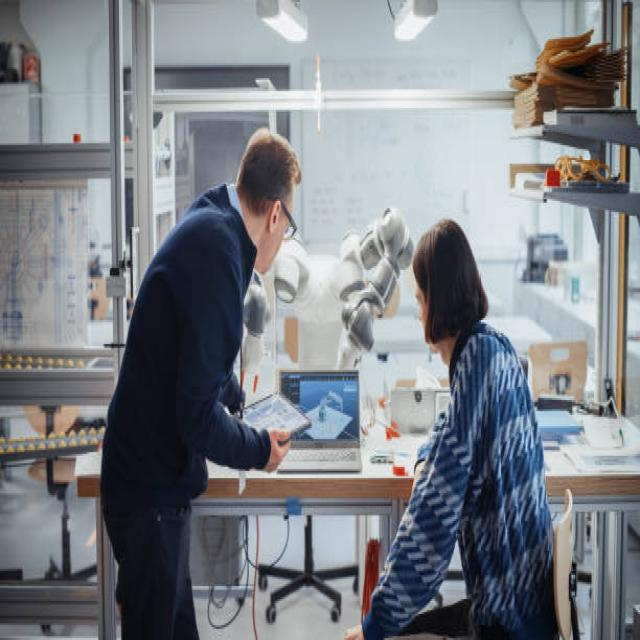Robotic-arm: (246, 209, 418, 387)
